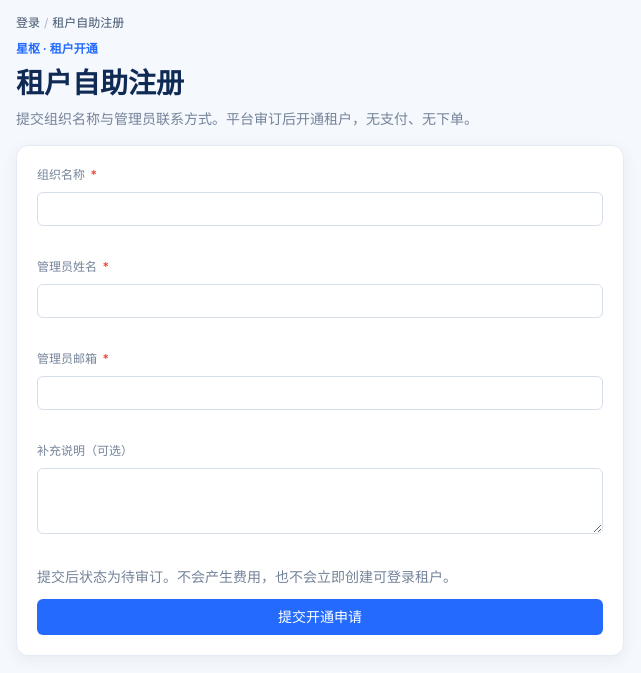
Test: TenantSelfRegisterView › shows S-shell error when apply fails
The image size is (641, 673).
Type "示例科技" into the field with test id "register-org-name". click: (320, 209)
box: [37,192,603,226]
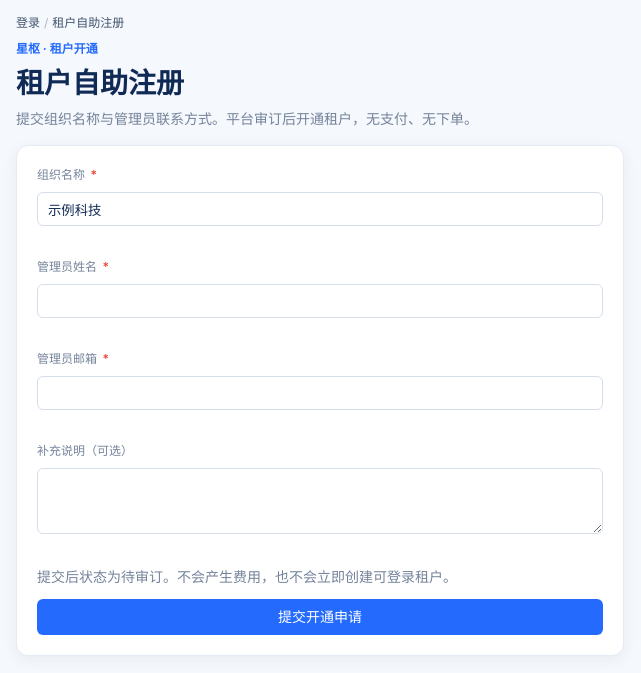
Type "张三" into the field with test id "register-admin-name". click: (320, 301)
box: [37,284,603,318]
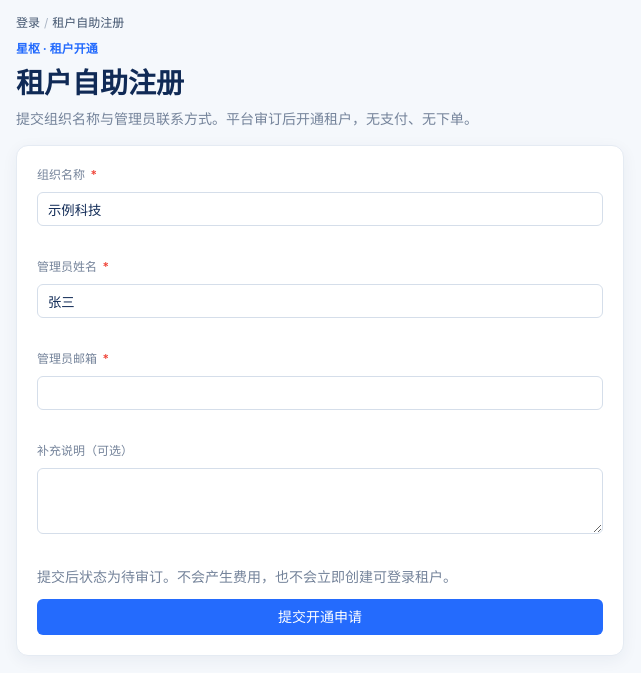
Type "zhang@example.com" into the field with test id "register-admin-email". click: (320, 393)
box: [37,376,603,410]
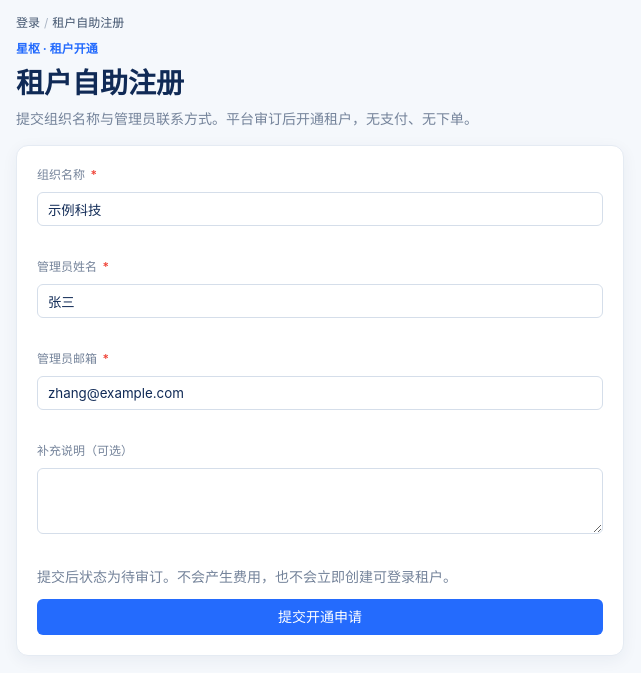
Submit the form with test id "register-form"
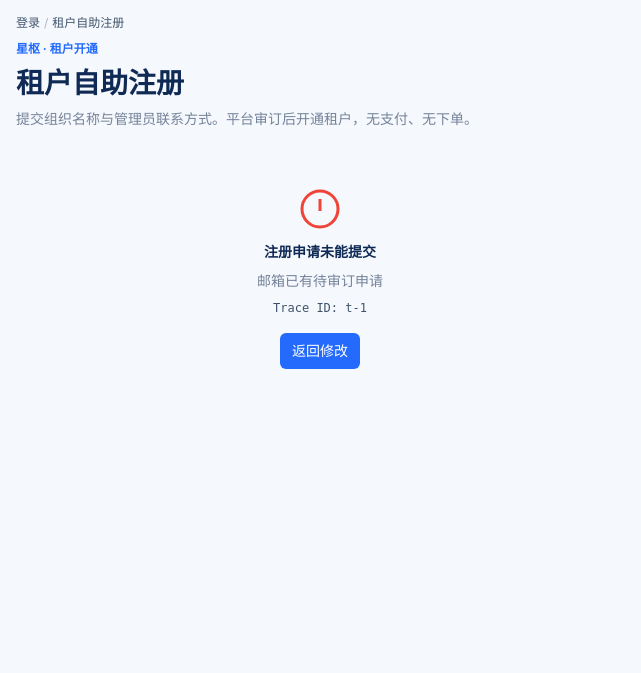
Expected: the message with test id "register-error" shows "邮箱已有待审订申请", [257,272,383,289]
